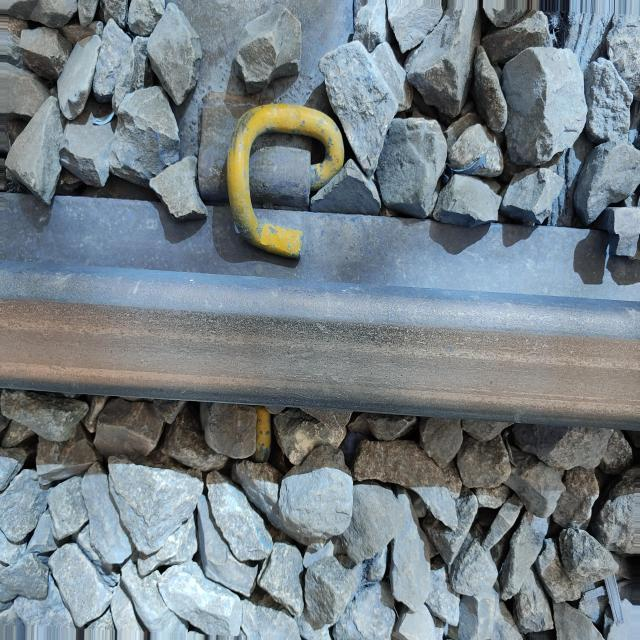Good Fasteners: (197, 92, 345, 258), (254, 406, 272, 462)
